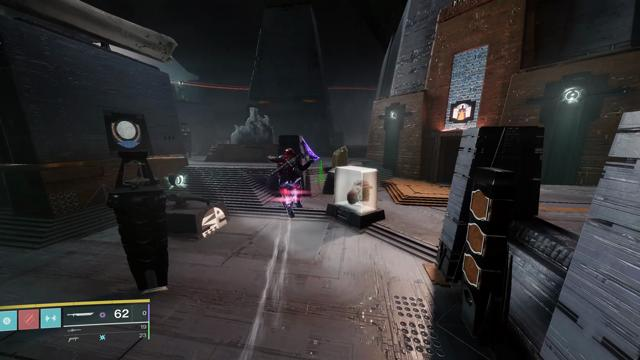traveler: (111, 118, 141, 148)
